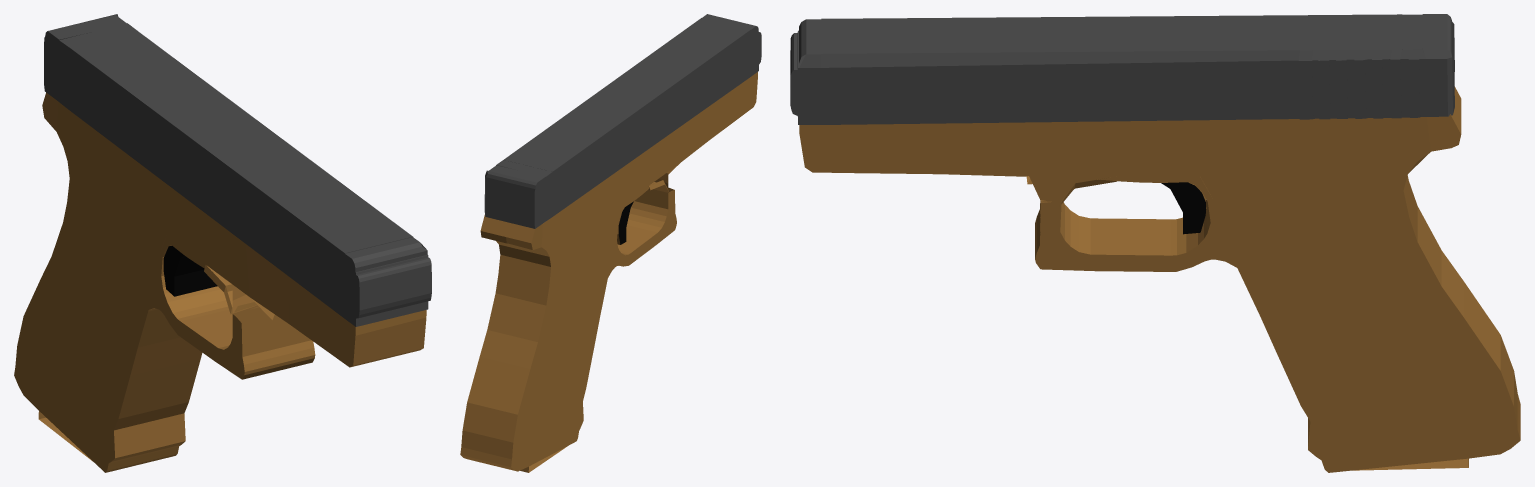
Rendered from Glock18.fbx.
The picture shows the model from 3 angles, left to right: view 1: azimuth 30°, elevation 25°; view 2: azimuth 150°, elevation 25°; view 3: azimuth 270°, elevation 25°; orthographic projection. The views are drawn at different scales.
Parts seen in each view (by area): view 1: Cube, Cube.001; view 2: Cube, Cube.001; view 3: Cube, Cube.001.
Part boxes in pixels (x1,y1,x2,y2): Cube: (14, 92, 426, 472); Cube.001: (44, 14, 431, 326); Cube: (460, 72, 757, 472); Cube.001: (484, 14, 761, 228); Cube: (799, 86, 1520, 472); Cube.001: (790, 14, 1454, 124).
Bounding box in the file's own units: 84.75 × 438 × 688.
